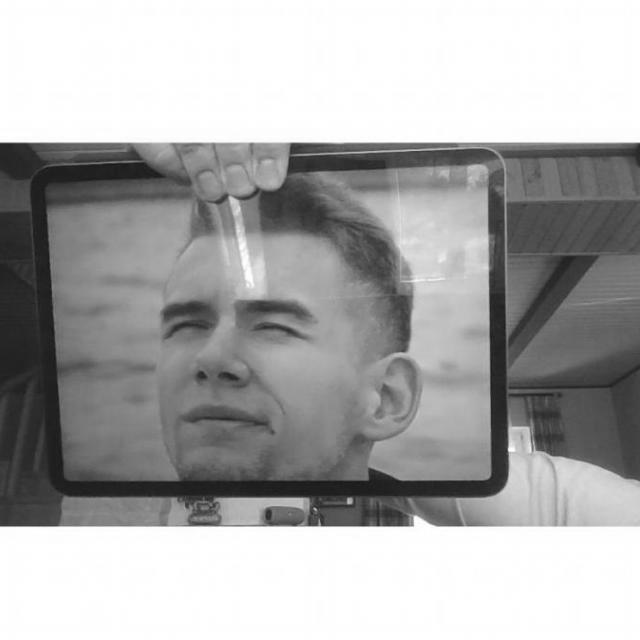fake: (37, 166, 506, 495)
